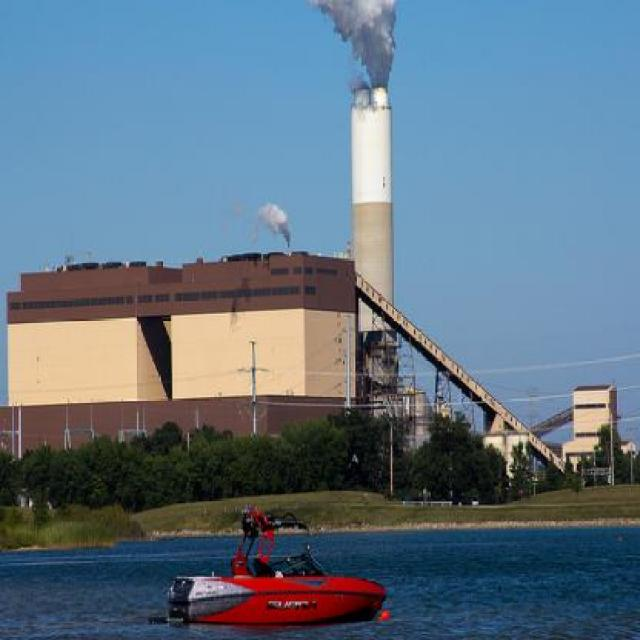ship: (146, 502, 386, 623)
